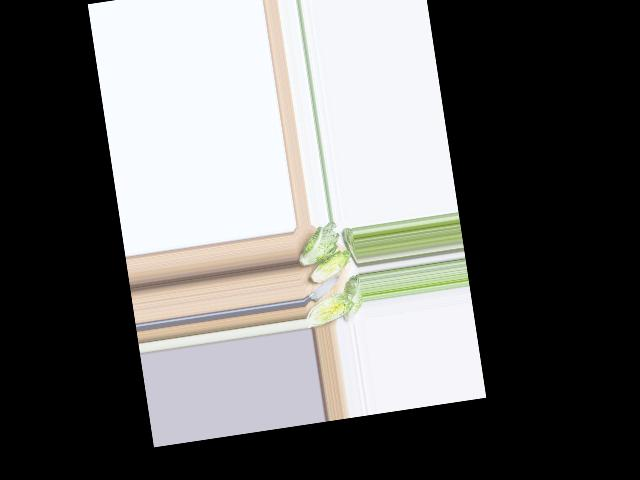lettuce: (338, 275, 363, 320)
